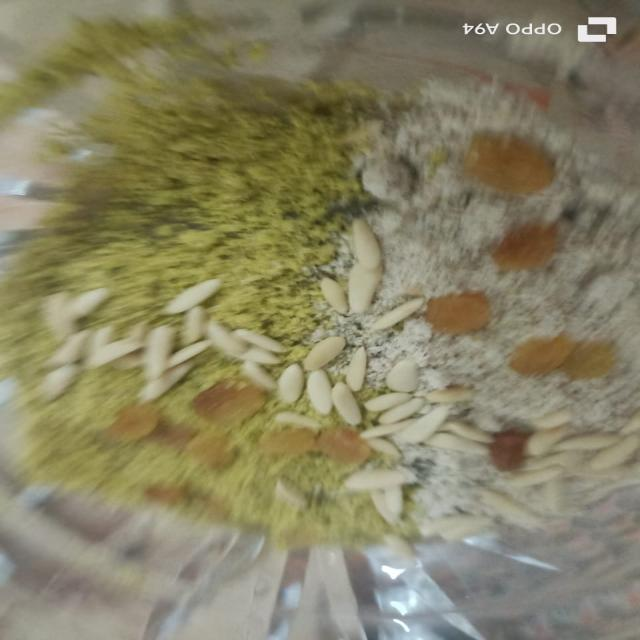asida-zkoukou: (4, 80, 623, 544)
